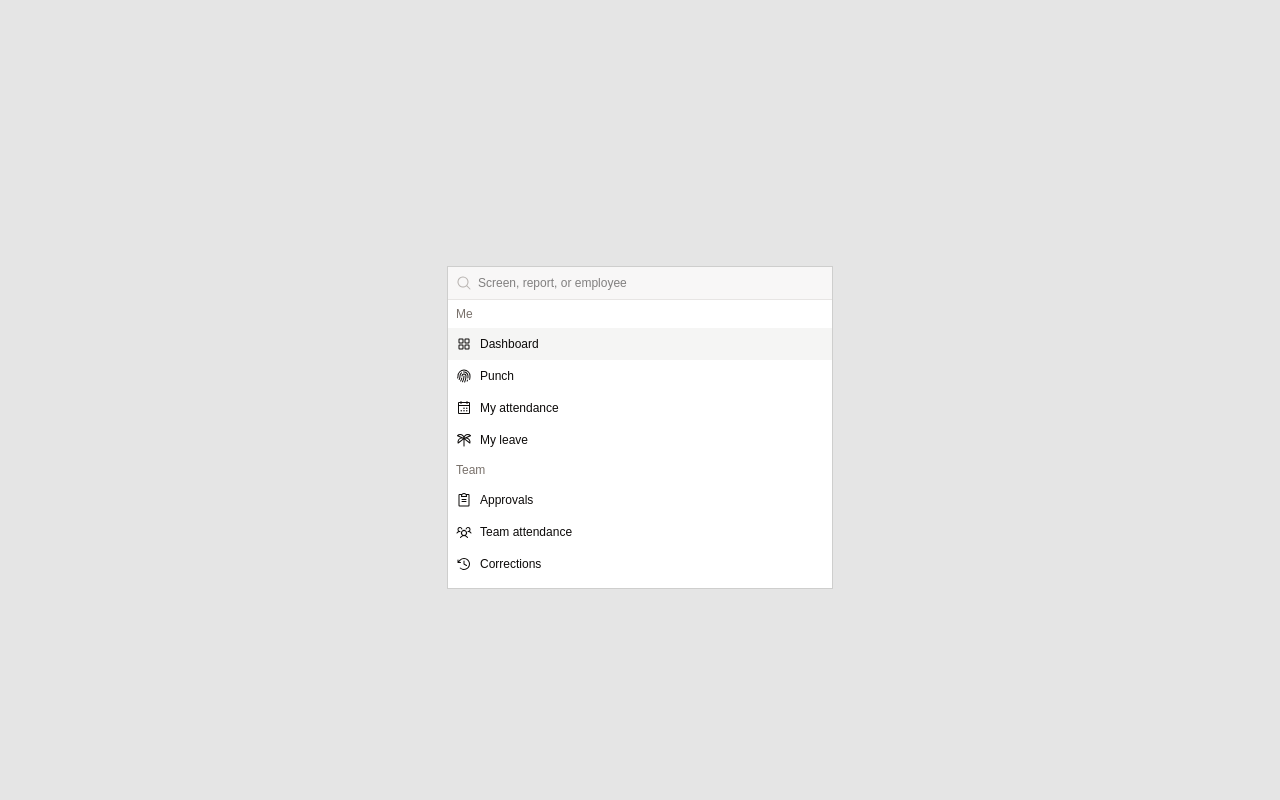
Test: GoToPalette › asks the server once the query is long enough, and renders what it answers
Type "asha" into the dropdown with placeholder "Screen, report, or employee" at point(652, 283), box x1=472 y1=275 x2=832 y2=291
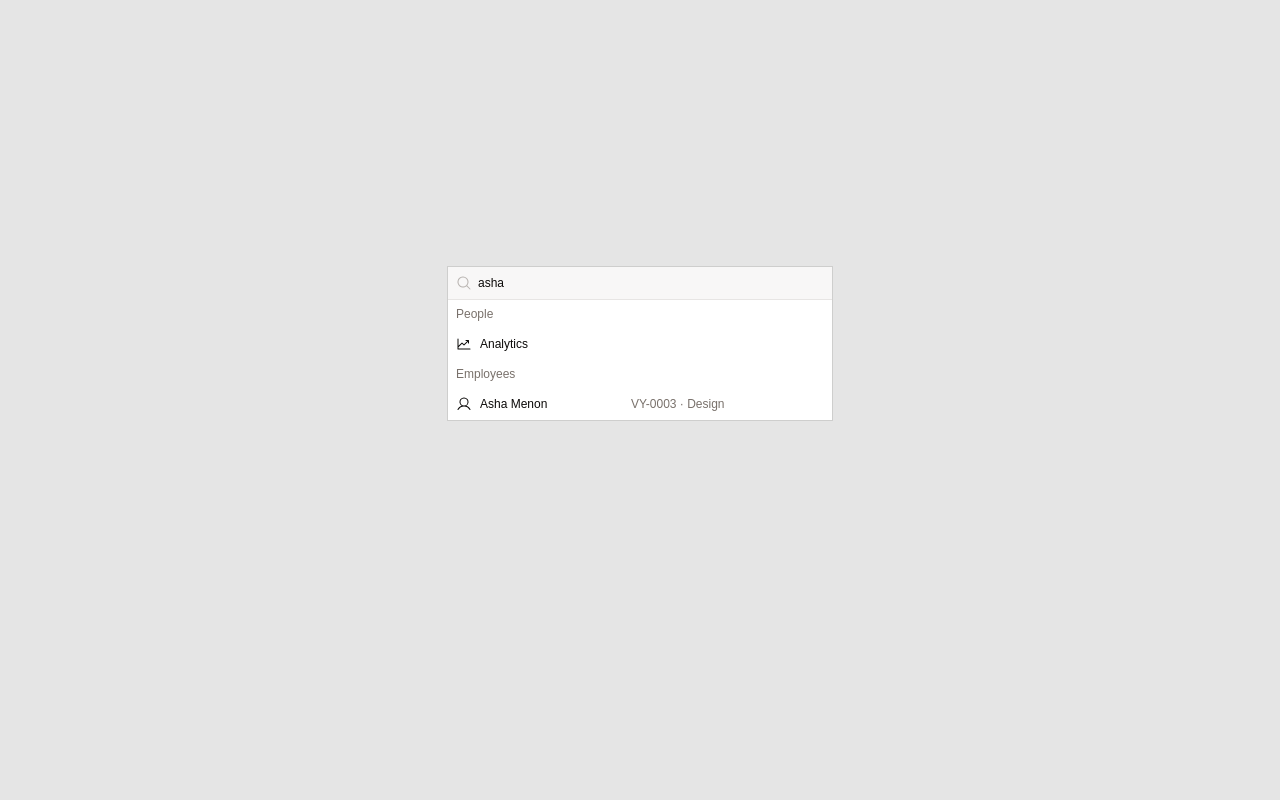
Now the text "Asha Menon" is shown, box x1=480 y1=396 x2=547 y2=412
Now the text "VY-0003 · Design" is shown, box x1=631 y1=396 x2=724 y2=412
